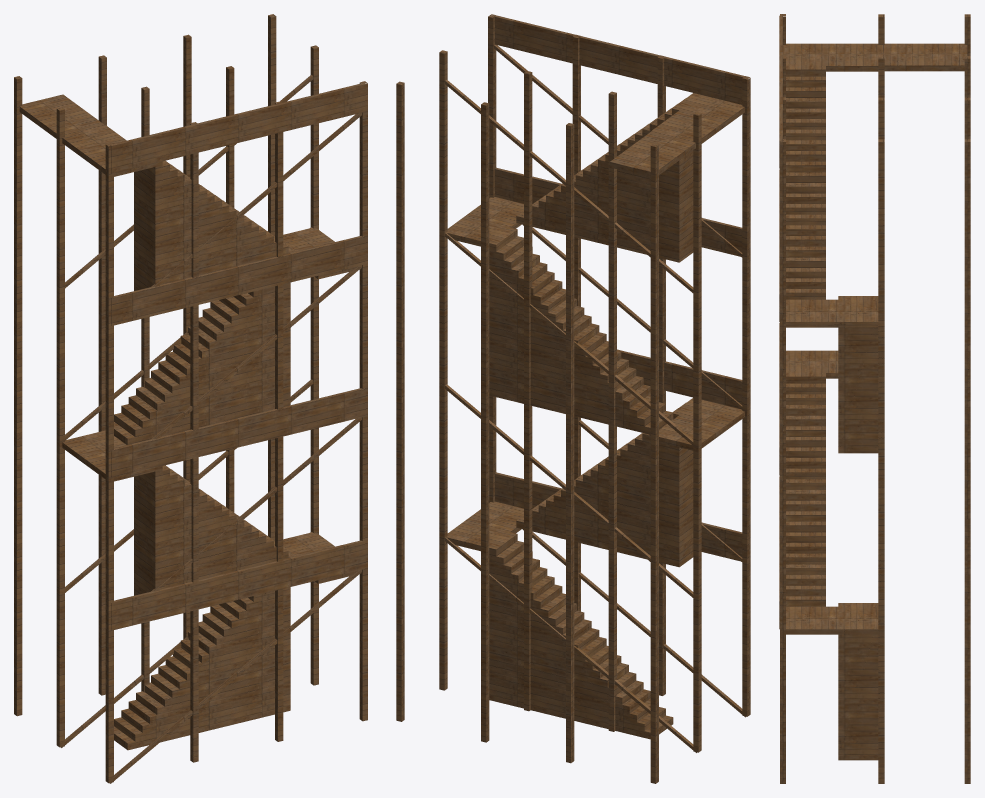
The model's file is fort-scaffold.zfix-v11.lod0.glb.
3 views of the same model, side by side, from view 1: azimuth 30°, elevation 25°; view 2: azimuth 150°, elevation 25°; view 3: azimuth 270°, elevation 25° (orthographic).
Parts seen in each view (by area): view 1: fort-scaffold; view 2: fort-scaffold; view 3: fort-scaffold.
Part boxes in pixels (x1,y1,x2,y2): fort-scaffold: [14, 14, 367, 783]; fort-scaffold: [396, 14, 750, 783]; fort-scaffold: [779, 14, 970, 783].
Size of the model in its own units: 9.8 by 23.07 by 6.22.
Materials: 1 (1 with a texture image).
